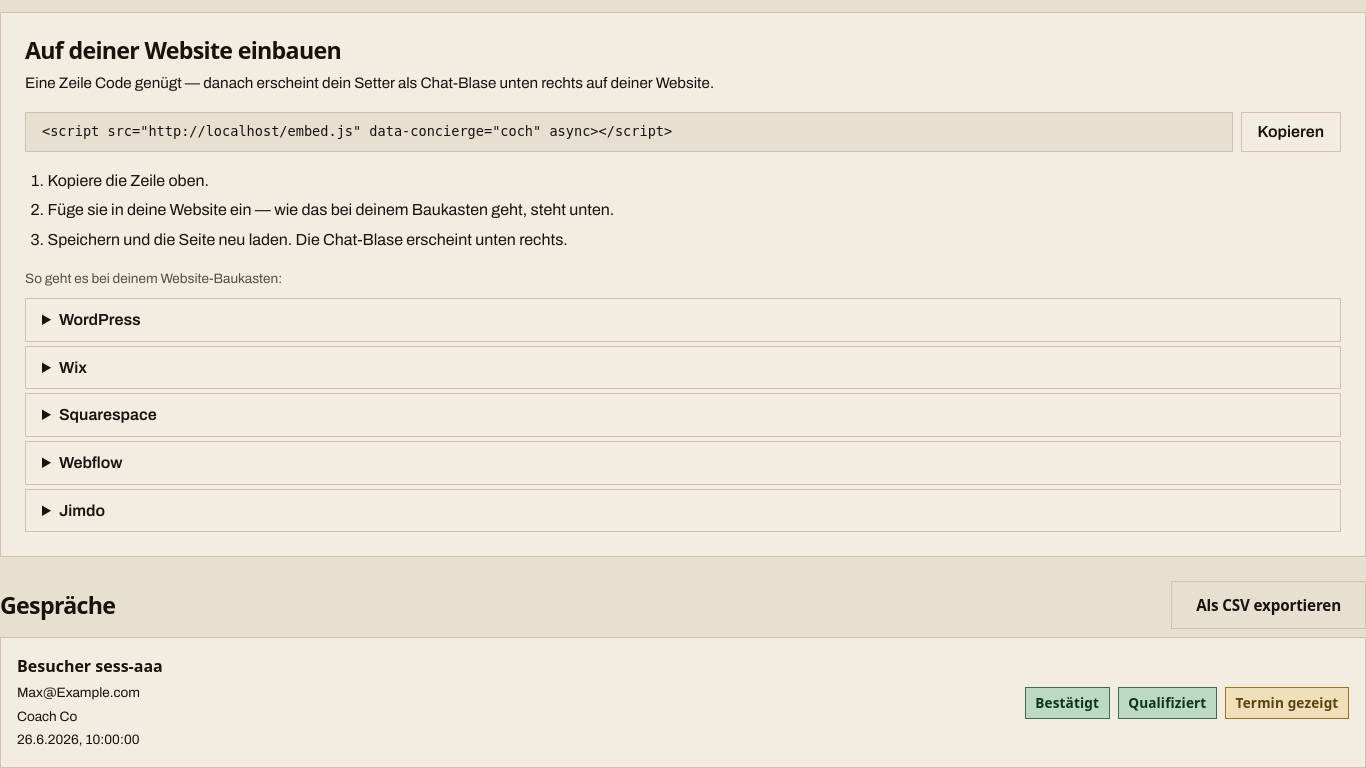
Test: ConciergeChatsPage › shows the STORED wording, including a row collected under an older version
(page scrolled)
Click the button "sess-aaa": (683, 703) [0,637,1365,767]
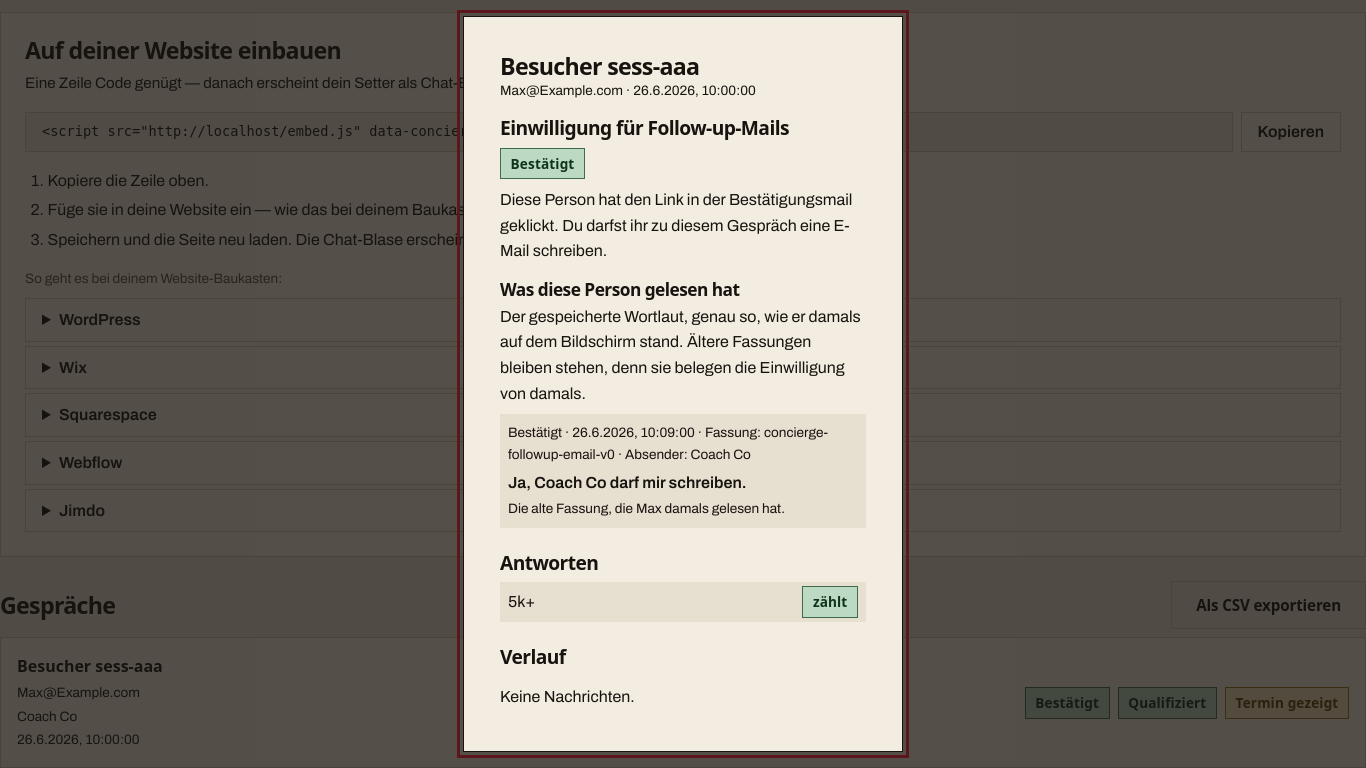
Check: the text "Die alte Fassung, die Max damals gelesen hat." is shown, box [508,501,785,516]
Check: the text "Ja, Coach Co darf mir schreiben." is shown, box [508,474,747,491]
Check: the text "concierge-followup-email-v0" is shown, box [508,425,828,462]
